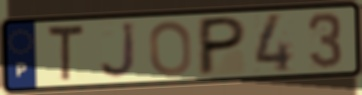3: (306, 10, 346, 72)
4: (252, 12, 298, 74)
J: (98, 20, 139, 81)
O: (147, 19, 194, 78)
P: (195, 14, 249, 78)
T: (45, 22, 87, 84)
